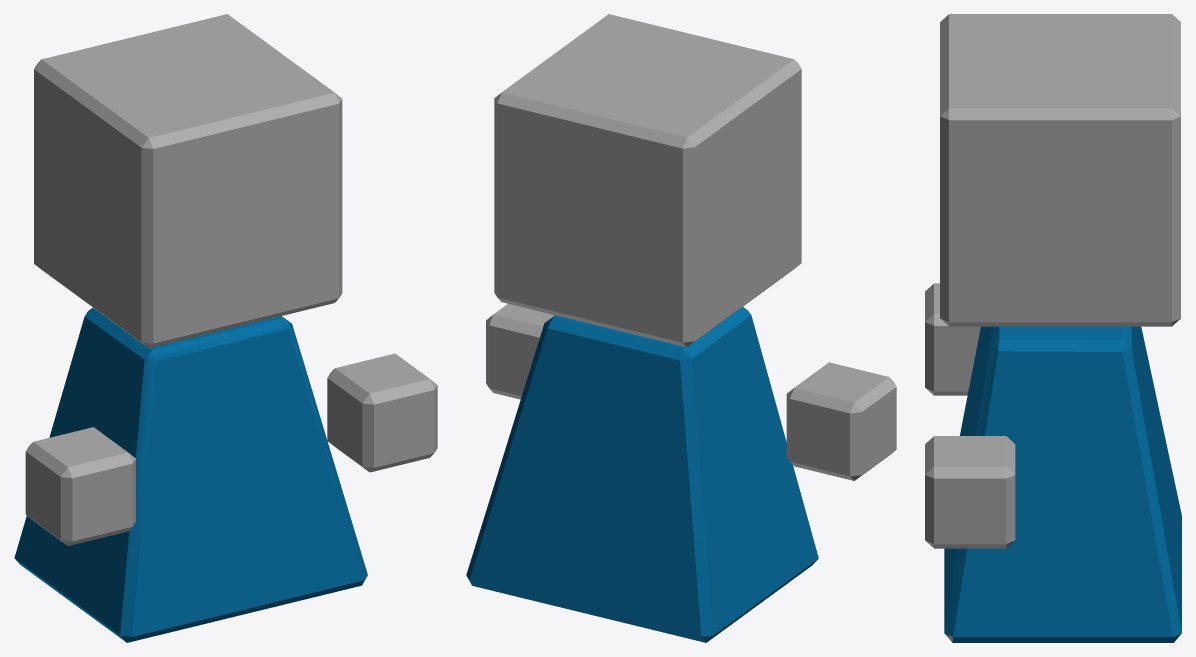
File: Character.fbx
3 renders of one model, left to right at view 1: azimuth 30°, elevation 25°; view 2: azimuth 150°, elevation 25°; view 3: azimuth 270°, elevation 25°, orthographic. The views are drawn at different scales.
Visible parts, largest first — view 1: pCube4; view 2: pCube4; view 3: pCube4.
Boxes of the visible parts, bbox=[...] form: pCube4: bbox=[14, 14, 437, 642]; pCube4: bbox=[466, 14, 896, 642]; pCube4: bbox=[925, 14, 1181, 642].
Size of the model in its own units: 1.2 by 1.52 by 0.6823.
